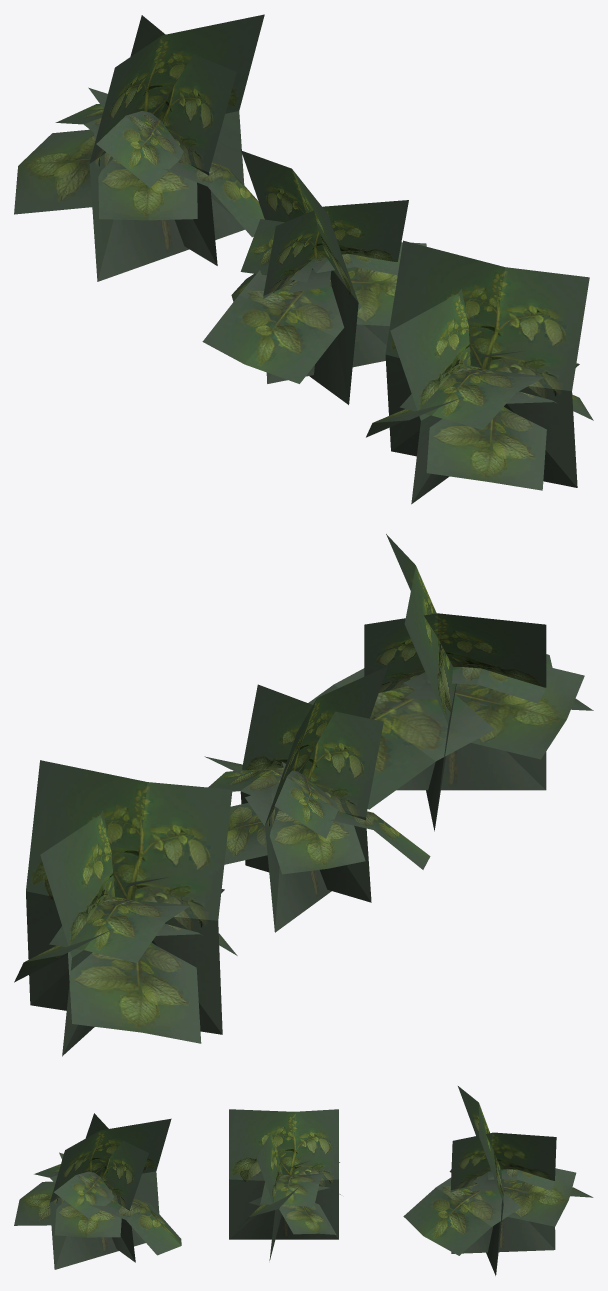
File: bg_anh_foliage_crops19_sm_ksy.FBX
The picture shows the model from 3 angles, top to bottom: view 1: azimuth 30°, elevation 25°; view 2: azimuth 150°, elevation 25°; view 3: azimuth 270°, elevation 25°; orthographic projection. The views are drawn at different scales.
Visible parts, largest first — view 1: bg_anh_foliage_crops19_sm_ksy; view 2: bg_anh_foliage_crops19_sm_ksy; view 3: bg_anh_foliage_crops19_sm_ksy.
Boxes of the visible parts, x1=… form: bg_anh_foliage_crops19_sm_ksy: x1=14, y1=14, x2=593, y2=504; bg_anh_foliage_crops19_sm_ksy: x1=14, y1=534, x2=593, y2=1056; bg_anh_foliage_crops19_sm_ksy: x1=14, y1=1086, x2=593, y2=1275.
Bounding box in the file's own units: 49.58 × 42.77 × 156.
